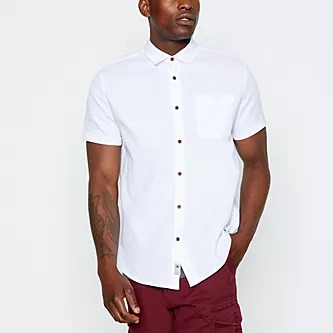S_shirt: (73, 40, 275, 304)
